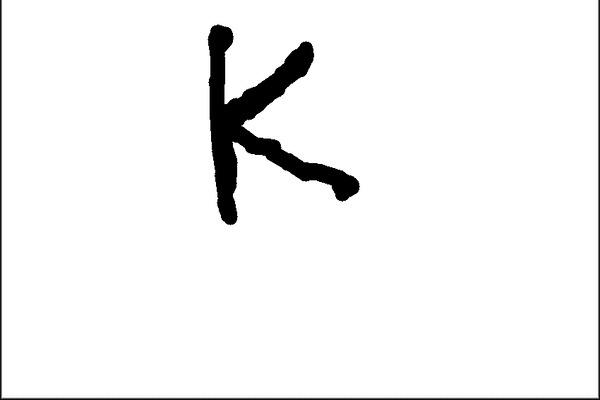K: (199, 20, 366, 234)
